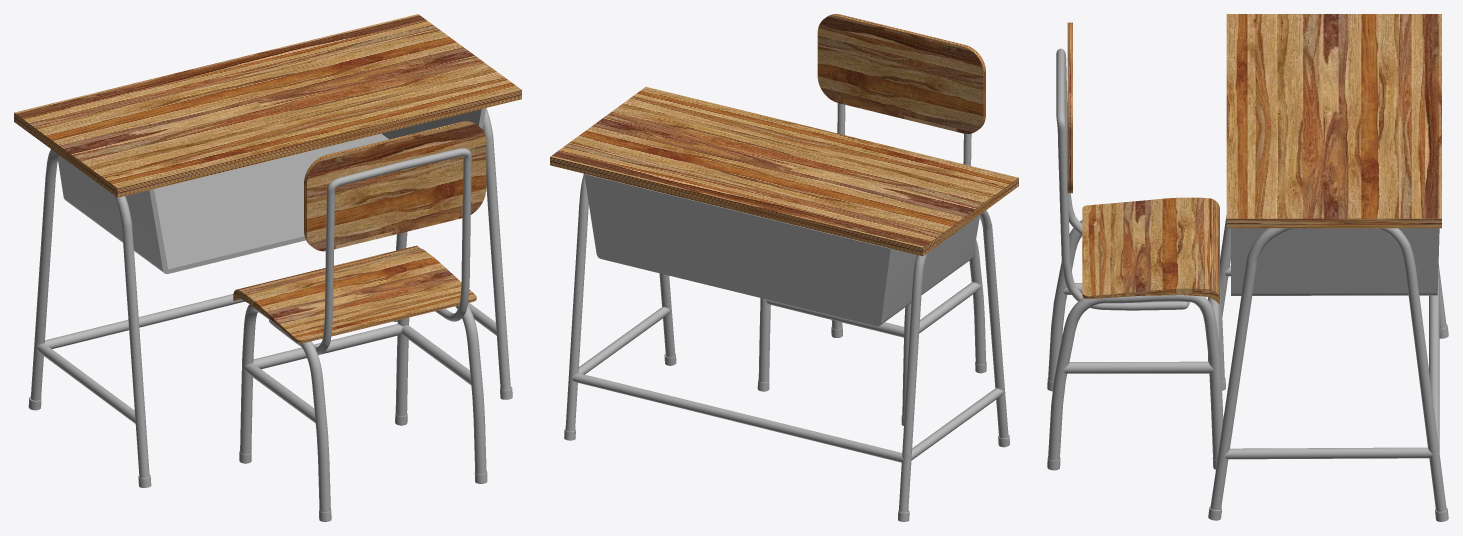
Rendered from deskAndChiar.glb.
3 renders of one model, left to right at view 1: azimuth 30°, elevation 25°; view 2: azimuth 150°, elevation 25°; view 3: azimuth 270°, elevation 25°, orthographic. The views are drawn at different scales.
Visible parts, largest first — view 1: 桌子板, 桌子柜, 椅子版, 桌子腿, 做垫, 椅子脚, 背版架; view 2: 桌子板, 桌子柜, 椅子版, 桌子腿, 椅子脚, 背版架; view 3: 桌子板, 做垫, 桌子柜, 桌子腿, 椅子脚, 背版架, 椅子版.
Part boxes in pixels (left/top/right/bottom): 桌子板: left=14, top=14, right=521, bottom=197; 桌子柜: left=58, top=108, right=485, bottom=273; 椅子版: left=304, top=121, right=486, bottom=251; 桌子腿: left=30, top=108, right=510, bottom=477; 做垫: left=233, top=245, right=476, bottom=343; 椅子脚: left=240, top=304, right=486, bottom=512; 背版架: left=269, top=148, right=471, bottom=354; 桌子板: left=550, top=87, right=1018, bottom=256; 桌子柜: left=584, top=174, right=979, bottom=326; 椅子版: left=817, top=14, right=985, bottom=133; 桌子腿: left=565, top=173, right=1008, bottom=512; 椅子脚: left=758, top=239, right=985, bottom=416; 背版架: left=837, top=103, right=971, bottom=165; 桌子板: left=1226, top=14, right=1441, bottom=228; 做垫: left=1082, top=197, right=1219, bottom=303; 桌子柜: left=1231, top=228, right=1439, bottom=295; 桌子腿: left=1210, top=215, right=1446, bottom=511; 椅子脚: left=1048, top=220, right=1224, bottom=460; 背版架: left=1056, top=48, right=1189, bottom=310; 椅子版: left=1067, top=22, right=1072, bottom=193.
Bounding box in the file's own units: 3.08 × 2.59 × 2.55.
Materials: 2 (1 with a texture image).
